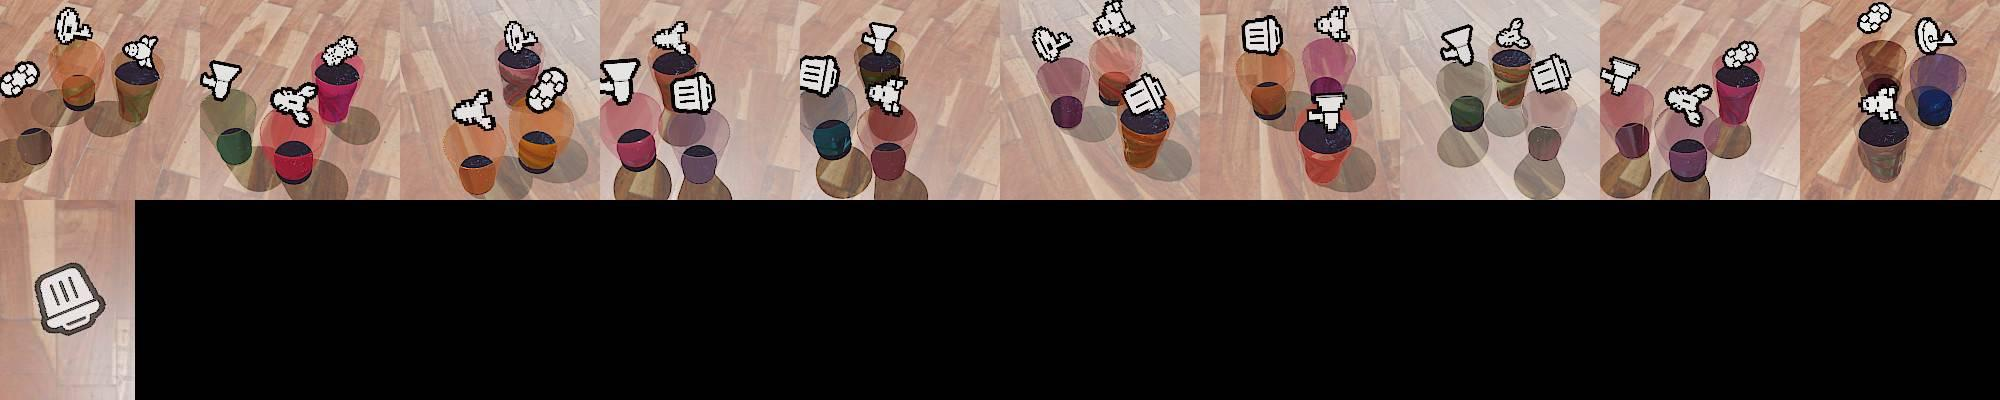icon: (33, 261, 106, 335), (269, 79, 318, 125), (1121, 71, 1168, 117), (1663, 83, 1713, 126), (671, 70, 717, 116), (526, 65, 569, 113), (598, 57, 642, 106), (1241, 13, 1284, 56), (797, 55, 842, 97), (452, 88, 496, 130), (1307, 88, 1348, 132), (200, 59, 242, 101), (1529, 54, 1573, 94), (865, 75, 907, 116), (1858, 82, 1901, 122), (1601, 55, 1642, 96), (1031, 24, 1073, 64), (1915, 17, 1958, 55), (1439, 23, 1477, 66), (54, 6, 93, 46), (0, 60, 41, 98), (1093, 0, 1134, 37), (1312, 4, 1351, 42), (861, 20, 899, 56), (319, 34, 358, 69), (651, 20, 690, 55), (1494, 18, 1533, 52), (122, 34, 159, 70), (503, 20, 540, 55), (1857, 1, 1894, 34), (1722, 41, 1759, 70)
